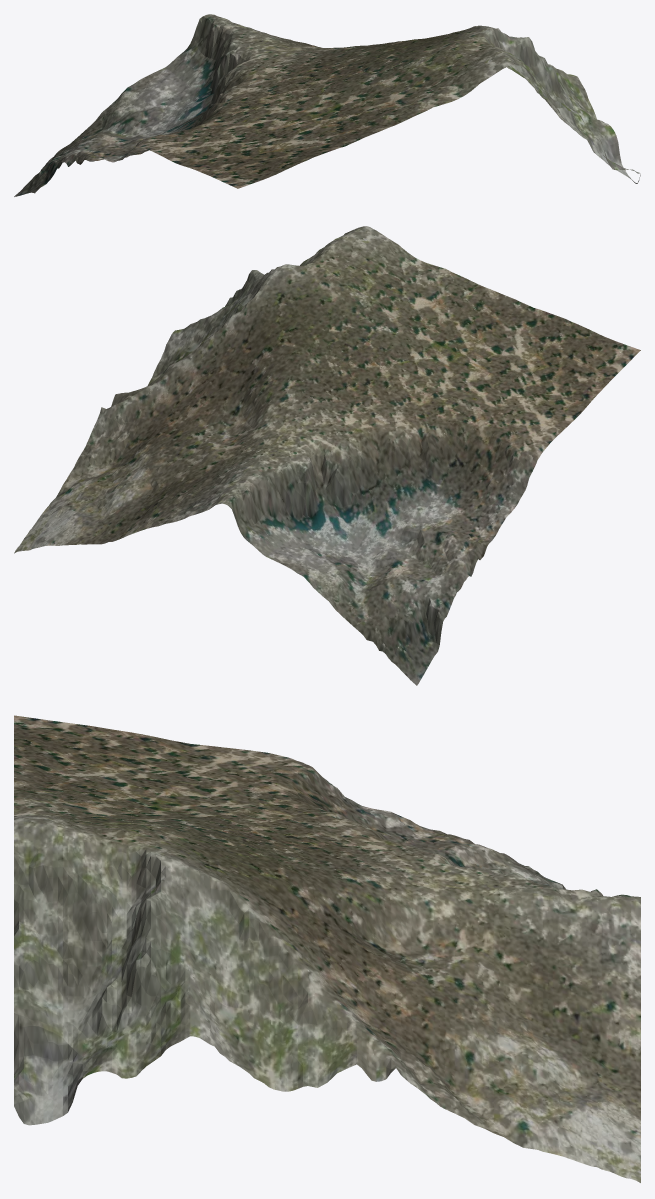
The picture shows the model from 3 angles, top to bottom: view 1: azimuth 30°, elevation 25°; view 2: azimuth 150°, elevation 25°; view 3: azimuth 270°, elevation 25°; orthographic projection. The views are drawn at different scales.
Bounding box in the file's own units: 500 × 273 × 481.
Materials: 1 (1 with a texture image).
